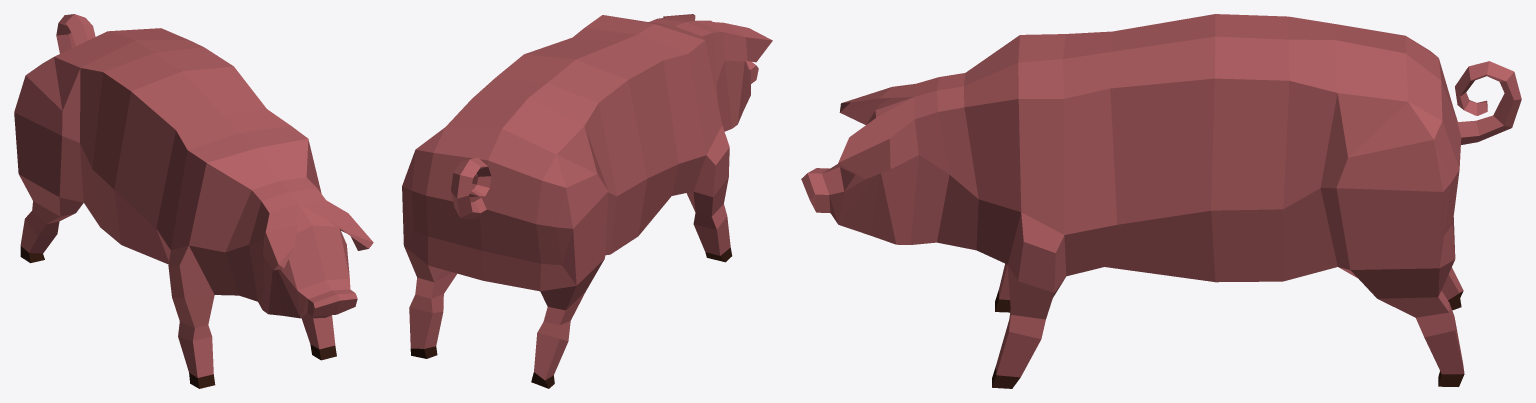
File: Pig_000033.obj
3 renders of one model, left to right at view 1: azimuth 30°, elevation 25°; view 2: azimuth 150°, elevation 25°; view 3: azimuth 270°, elevation 25°, orthographic. The views are drawn at different scales.
Parts seen in each view (by area): view 1: Pig_Cylinder; view 2: Pig_Cylinder; view 3: Pig_Cylinder.
Boxes of the visible parts, <box> form: Pig_Cylinder: <box>14,14,373,388</box>; Pig_Cylinder: <box>402,14,772,388</box>; Pig_Cylinder: <box>801,14,1521,388</box>.
Size of the model in its own units: 3.3 by 4.58 by 9.65.
